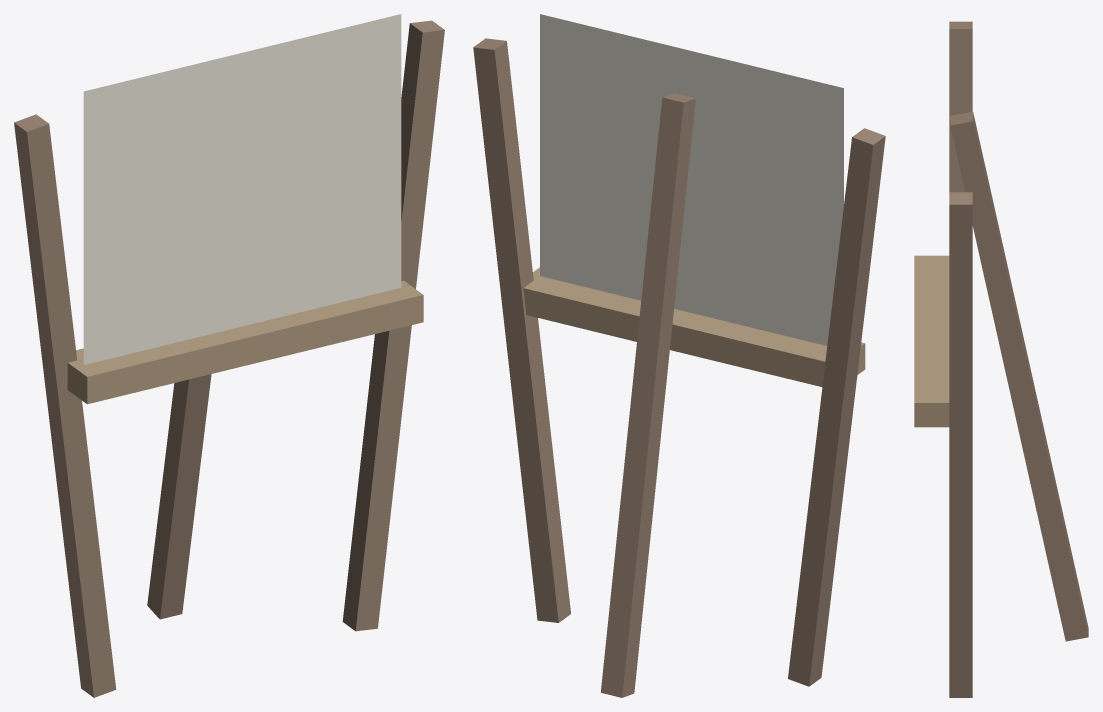
The model's file is easel.gltf.
3 renders of one model, left to right at view 1: azimuth 30°, elevation 25°; view 2: azimuth 150°, elevation 25°; view 3: azimuth 270°, elevation 25°, orthographic. The views are drawn at different scales.
Visible parts, largest first — view 1: Canvas, LegLeft, LegRight, Ledge, LegBack; view 2: Canvas, LegBack, LegRight, LegLeft, Ledge; view 3: LegBack, LegRight, Ledge, LegLeft.
Part boxes in pixels (x1=…): Canvas: x1=83, y1=14, x2=401, y2=364; LegLeft: x1=14, y1=114, x2=116, y2=697; LegRight: x1=342, y1=20, x2=444, y2=631; Ledge: x1=67, y1=281, x2=423, y2=404; LegBack: x1=147, y1=374, x2=211, y2=619; Canvas: x1=540, y1=14, x2=843, y2=345; LegBack: x1=600, y1=93, x2=695, y2=697; LegRight: x1=473, y1=38, x2=570, y2=622; LegLeft: x1=788, y1=128, x2=885, y2=686; Ledge: x1=523, y1=267, x2=865, y2=386; LegBack: x1=950, y1=111, x2=1088, y2=641; LegRight: x1=949, y1=192, x2=972, y2=697; Ledge: x1=914, y1=255, x2=949, y2=427; LegLeft: x1=949, y1=21, x2=972, y2=192.
Size of the model in its own units: 1.12 by 1.58 by 0.4494.
